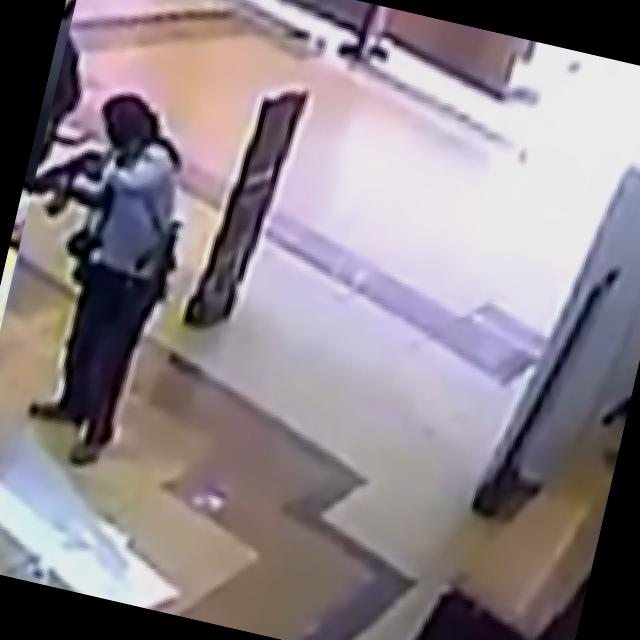person: (0, 75, 209, 478)
